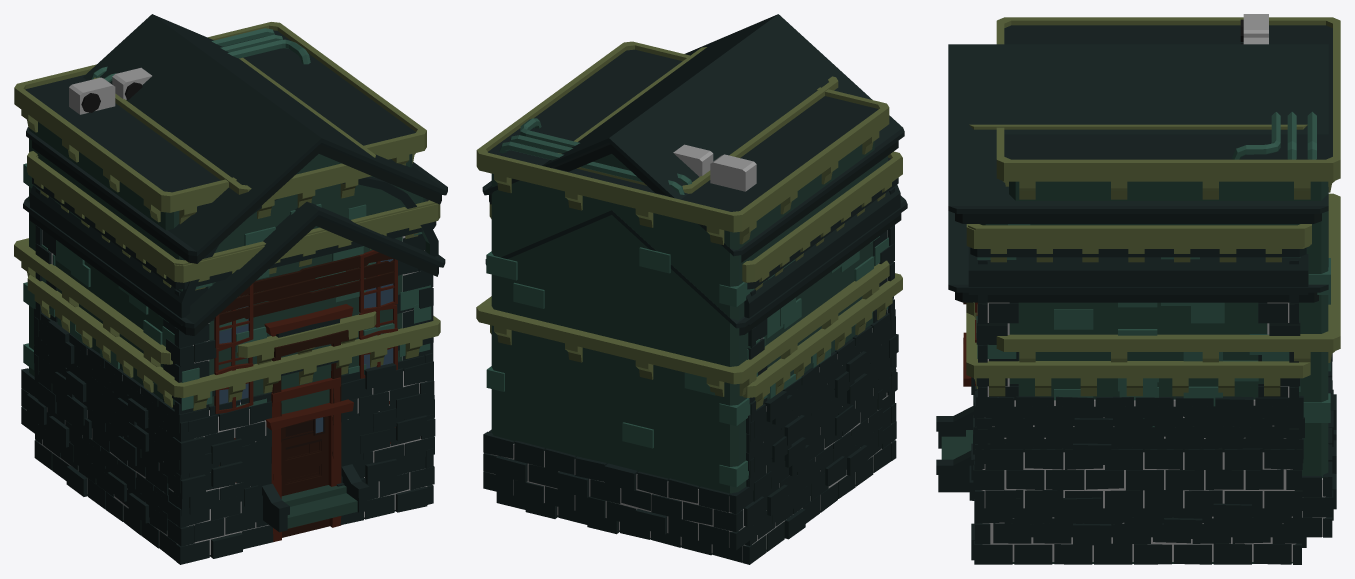
File: town-kit.glb
The picture shows the model from 3 angles, left to right: view 1: azimuth 30°, elevation 25°; view 2: azimuth 150°, elevation 25°; view 3: azimuth 270°, elevation 25°; orthographic projection. The views are drawn at different scales.
Visible parts, largest first — view 1: 2Story_GableRoof_Mat, 2Story_Mat, 1Story_Sign_Mat, 1Story_GableRoof_Mat, 2Story_Slim_Mat, 1Story_Mat, 1Story_RoundRoof_Mat; view 2: 2Story_Mat, 2Story_GableRoof_Mat, 1Story_Sign_Mat, 1Story_GableRoof_Mat, 1Story_Mat, 1Story_RoundRoof_Mat, 2Story_Slim_Mat; view 3: 2Story_GableRoof_Mat, 2Story_Mat, 1Story_RoundRoof_Mat, 1Story_Sign_Mat, 1Story_Mat, 1Story_GableRoof_Mat, 2Story_Slim_Mat.
Part boxes in pixels (x1,y1,x2,y2): 2Story_GableRoof_Mat: (26, 14, 447, 564); 2Story_Mat: (14, 22, 426, 532); 1Story_Sign_Mat: (28, 156, 440, 478); 1Story_GableRoof_Mat: (23, 196, 445, 493); 2Story_Slim_Mat: (93, 57, 376, 522); 1Story_Mat: (27, 151, 436, 469); 1Story_RoundRoof_Mat: (30, 176, 438, 516); 2Story_Mat: (476, 41, 889, 550); 2Story_GableRoof_Mat: (482, 14, 904, 564); 1Story_Sign_Mat: (743, 157, 902, 478); 1Story_GableRoof_Mat: (485, 195, 907, 492); 1Story_Mat: (489, 151, 901, 470); 1Story_RoundRoof_Mat: (744, 185, 900, 503); 2Story_Slim_Mat: (558, 47, 838, 193); 2Story_GableRoof_Mat: (948, 44, 1328, 564); 2Story_Mat: (936, 14, 1340, 538); 1Story_RoundRoof_Mat: (968, 247, 1308, 511); 1Story_Sign_Mat: (966, 224, 1310, 449); 1Story_Mat: (968, 224, 1311, 459); 1Story_GableRoof_Mat: (948, 211, 1328, 480); 2Story_Slim_Mat: (966, 124, 1307, 405).
Bounding box in the file's own units: 7073901 × 1.03e+07 × 8297222.
